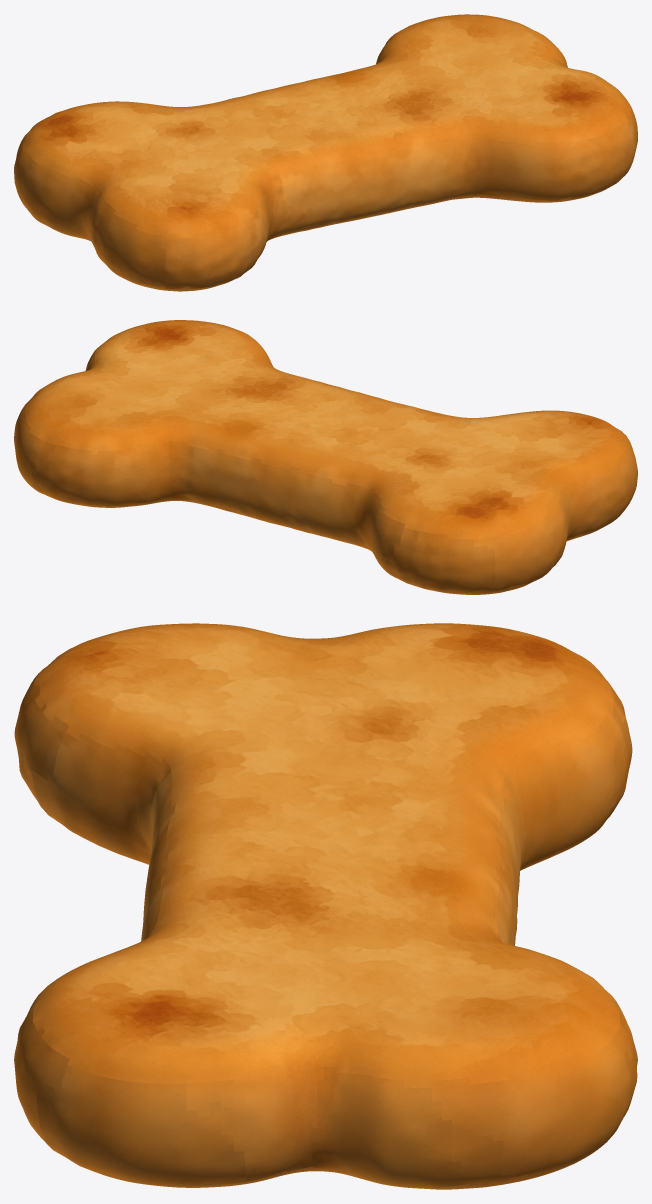
The model's file is Meshy_AI_Golden_Dog_Bone_1122031857_texture.glb.
3 views of the same model, one above another, from view 1: azimuth 30°, elevation 25°; view 2: azimuth 150°, elevation 25°; view 3: azimuth 270°, elevation 25° (orthographic). The views are drawn at different scales.
Parts seen in each view (by area): view 1: Mesh0; view 2: Mesh0; view 3: Mesh0.
Part boxes in pixels (x1=…): Mesh0: x1=14, y1=14, x2=637, y2=291; Mesh0: x1=14, y1=320, x2=637, y2=594; Mesh0: x1=14, y1=623, x2=637, y2=1189.
Bounding box in the file's own units: 1.9 × 0.2828 × 1.07.
1 material, 1 textured.
